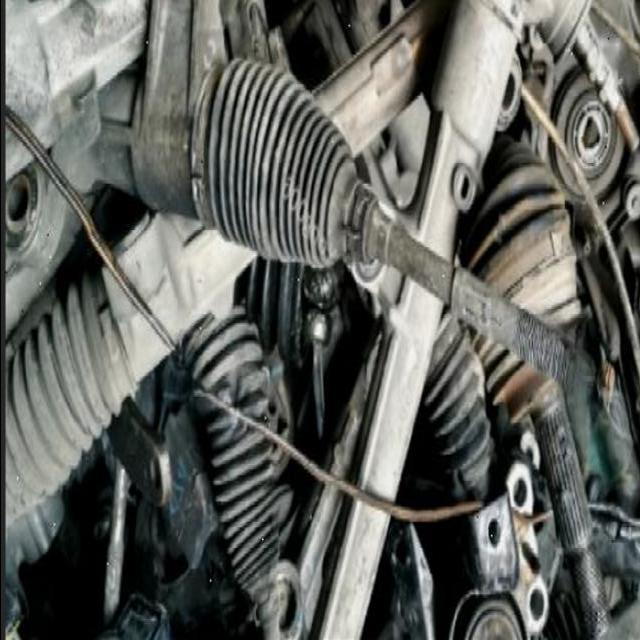shock absorber: (189, 58, 455, 305), (179, 305, 305, 635)
